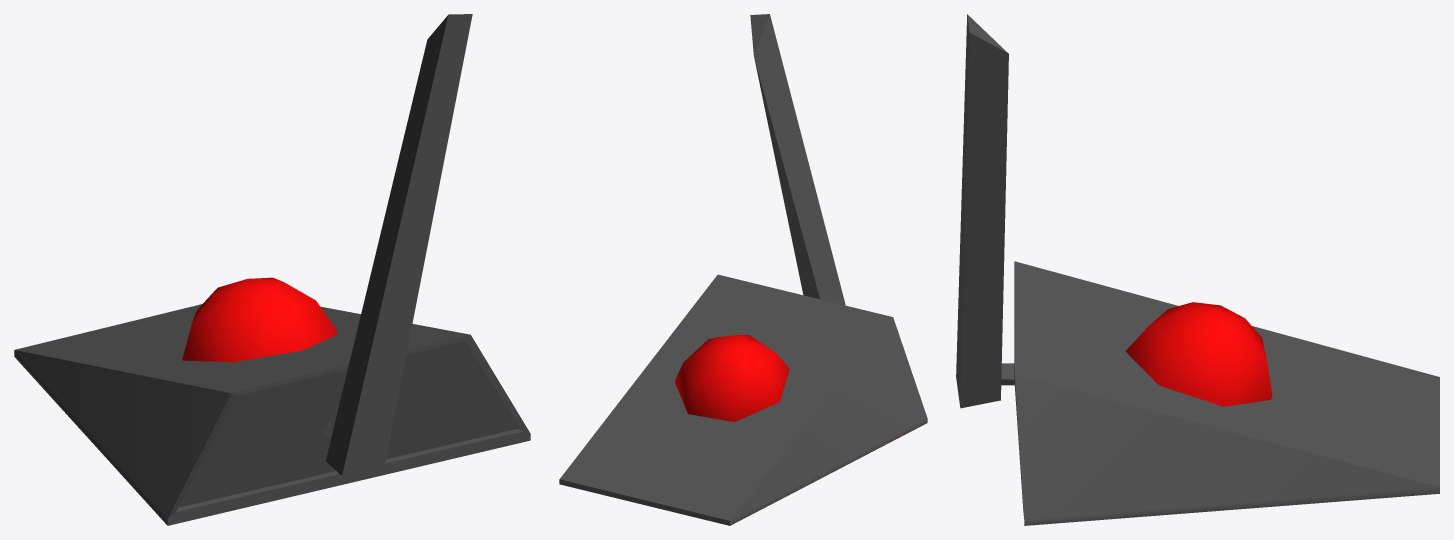
File: RouterThrown.fbx
3 views of the same model, side by side, from view 1: azimuth 30°, elevation 25°; view 2: azimuth 150°, elevation 25°; view 3: azimuth 270°, elevation 25° (orthographic). The views are drawn at different scales.
Visible parts, largest first — view 1: pCube9; view 2: pCube9; view 3: pCube9.
Boxes of the visible parts, x1,y1,x2,y2 form: pCube9: [14, 14, 530, 525]; pCube9: [559, 14, 927, 525]; pCube9: [956, 14, 1439, 525].
Bounding box in the file's own units: 27.64 × 34.87 × 33.28.
Materials: 1 (1 with a texture image).
